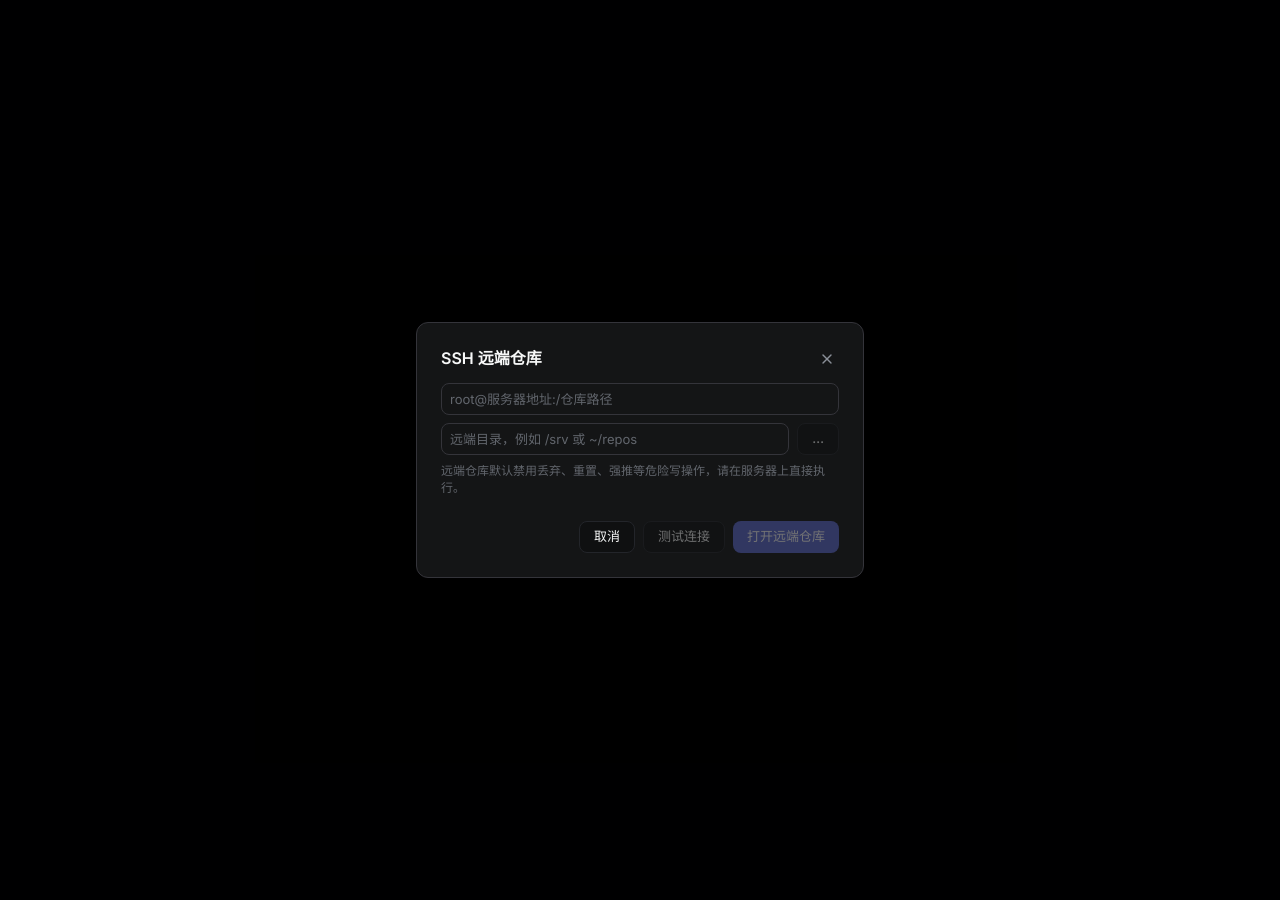
SshDialog › surfaces connection failures inline
In the field with test id "ssh-location-input": coordinates (640, 399) [441,383,839,415], type "root@host:/srv/repo"
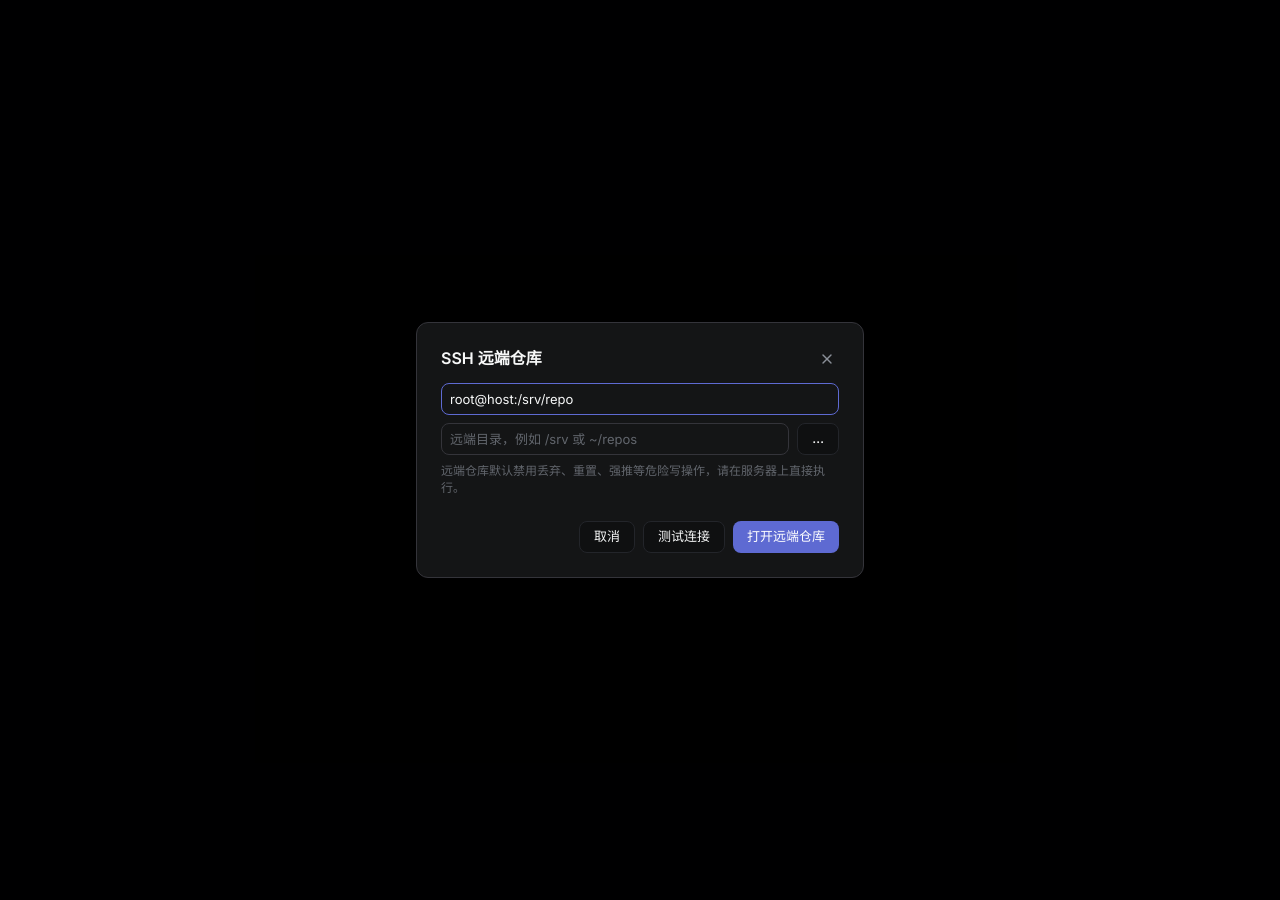
Click the button with test id "ssh-test": coordinates (684, 537) [643,521,725,553]
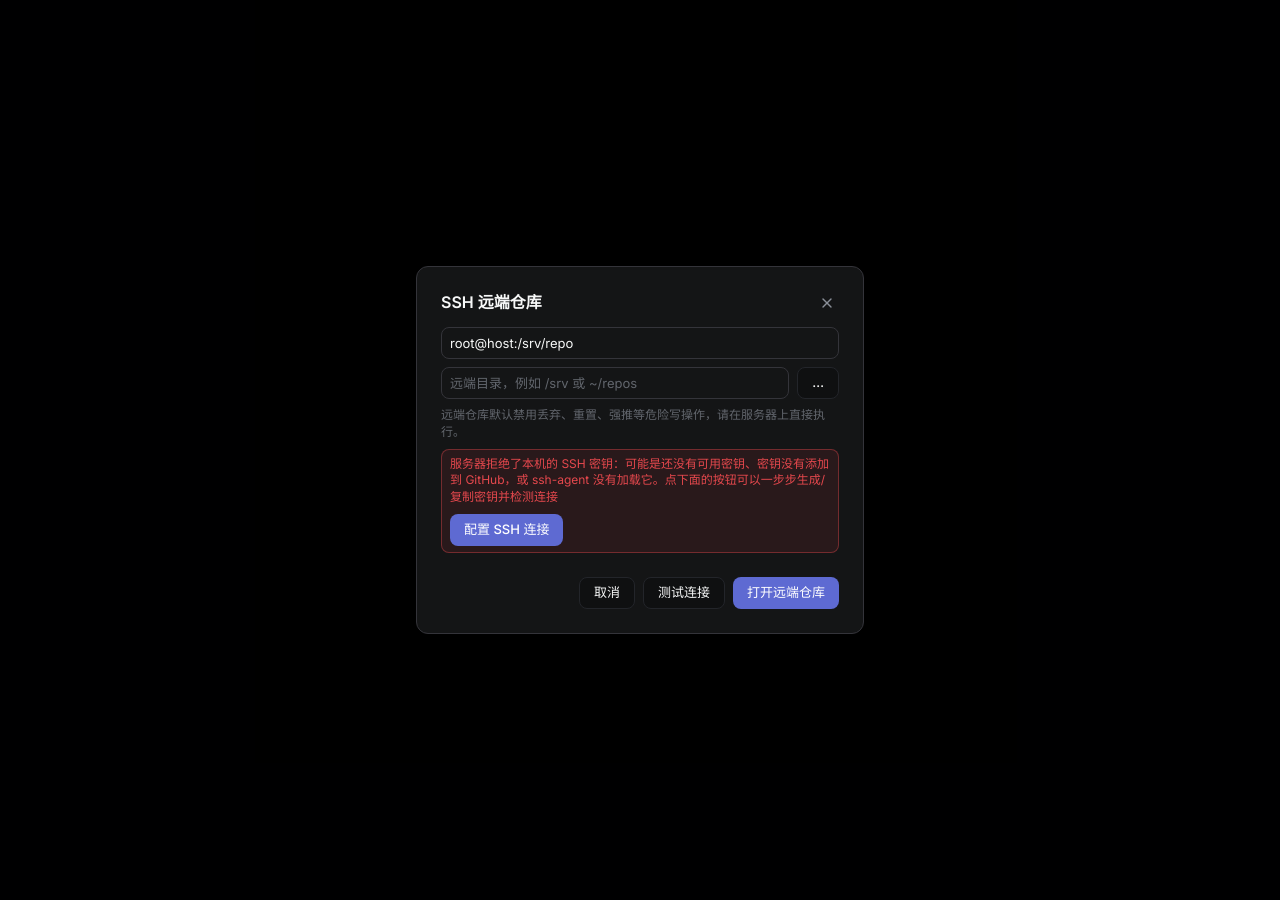
Check: the message with test id "ssh-error" shows "ssh-agent", box [450,456,829,504]
